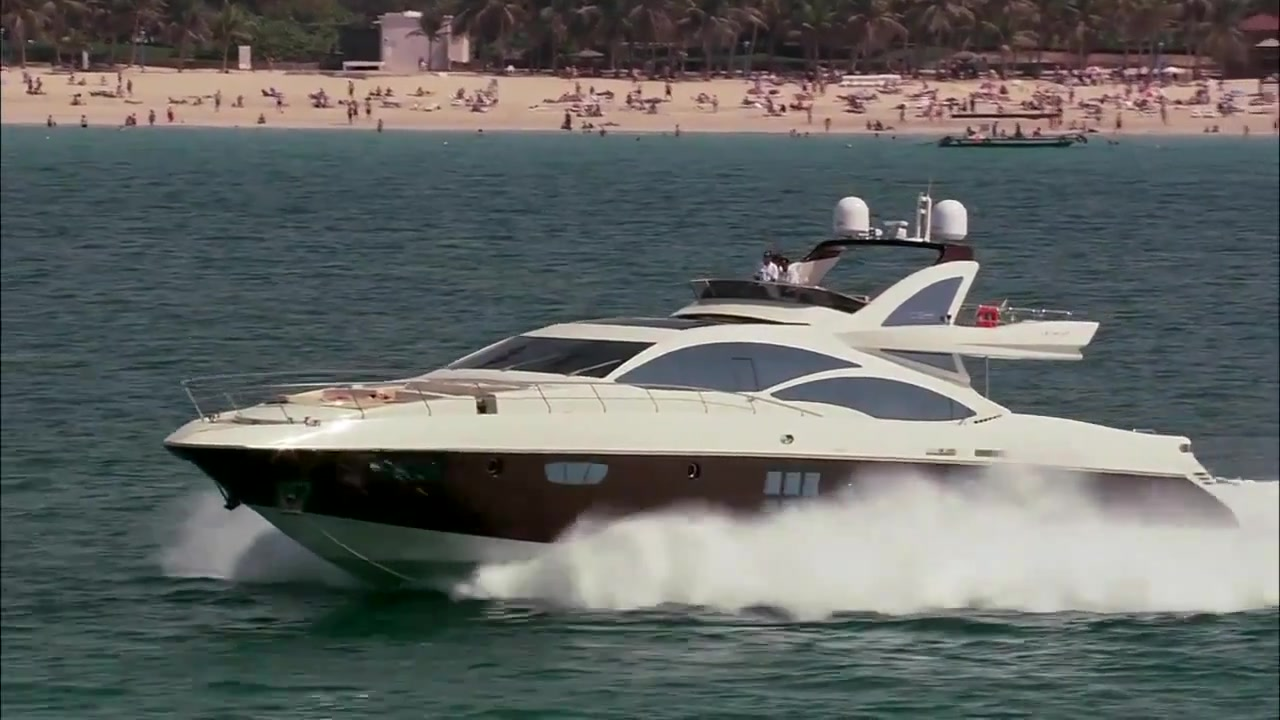boat: (160, 194, 1247, 605), (938, 130, 1080, 153), (943, 104, 1066, 124)
